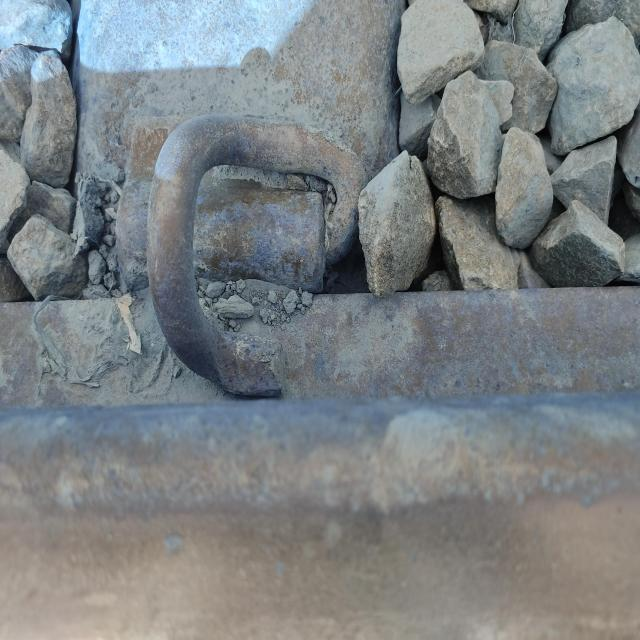Good Fasteners: (107, 110, 377, 399)
